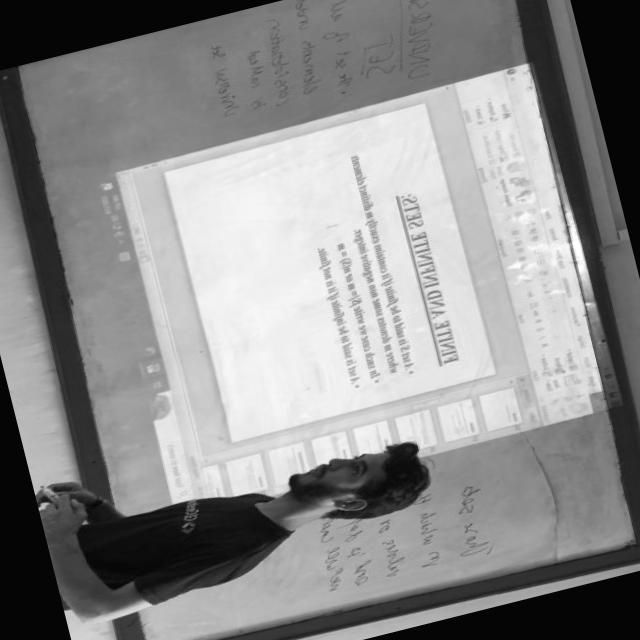Instructor: (43, 421, 460, 617)
Slide: (74, 58, 624, 535)
White-board: (5, 0, 640, 640)
